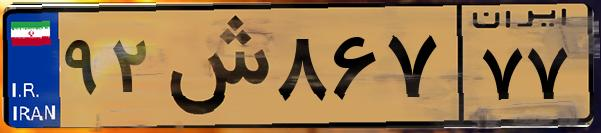2: (110, 28, 158, 98)
6: (330, 28, 385, 110)
7: (385, 28, 445, 110), (475, 38, 525, 113), (525, 38, 570, 115)
8: (270, 28, 330, 110)
9: (57, 26, 110, 100)
ش: (158, 12, 270, 120)
